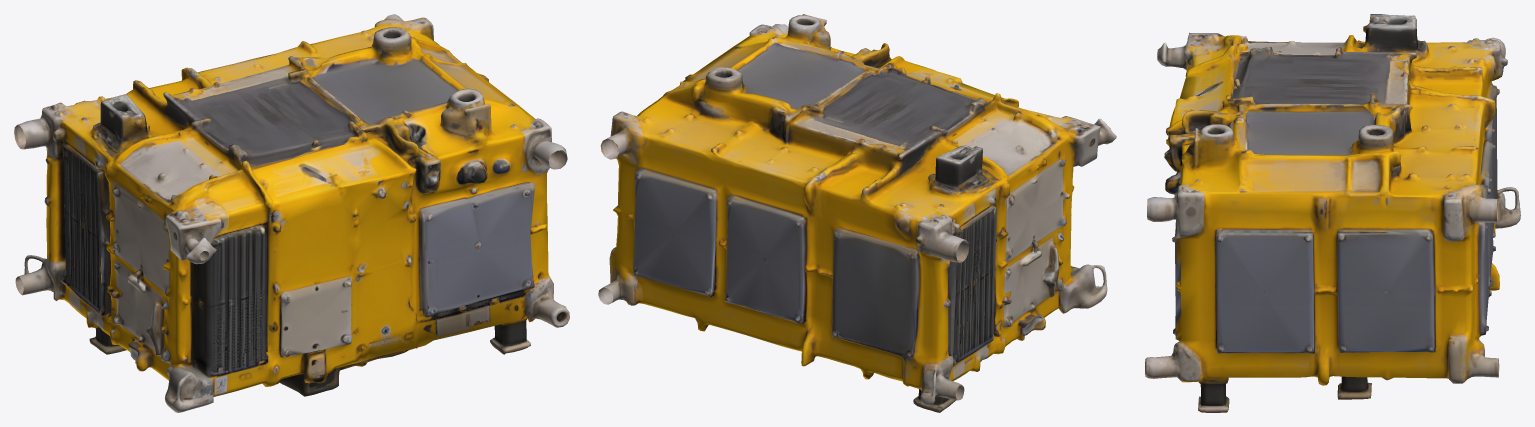
File: sat3_1.fbx
3 views of the same model, side by side, from view 1: azimuth 30°, elevation 25°; view 2: azimuth 150°, elevation 25°; view 3: azimuth 270°, elevation 25° (orthographic). The views are drawn at different scales.
Visible parts, largest first — view 1: tripo_node_5eadc7a9; view 2: tripo_node_5eadc7a9; view 3: tripo_node_5eadc7a9.
Boxes of the visible parts, bbox=[...] form: tripo_node_5eadc7a9: bbox=[14, 14, 569, 412]; tripo_node_5eadc7a9: bbox=[598, 14, 1116, 412]; tripo_node_5eadc7a9: bbox=[1145, 14, 1520, 412].
Bounding box in the file's own units: 0.9995 × 0.6616 × 0.8354.
